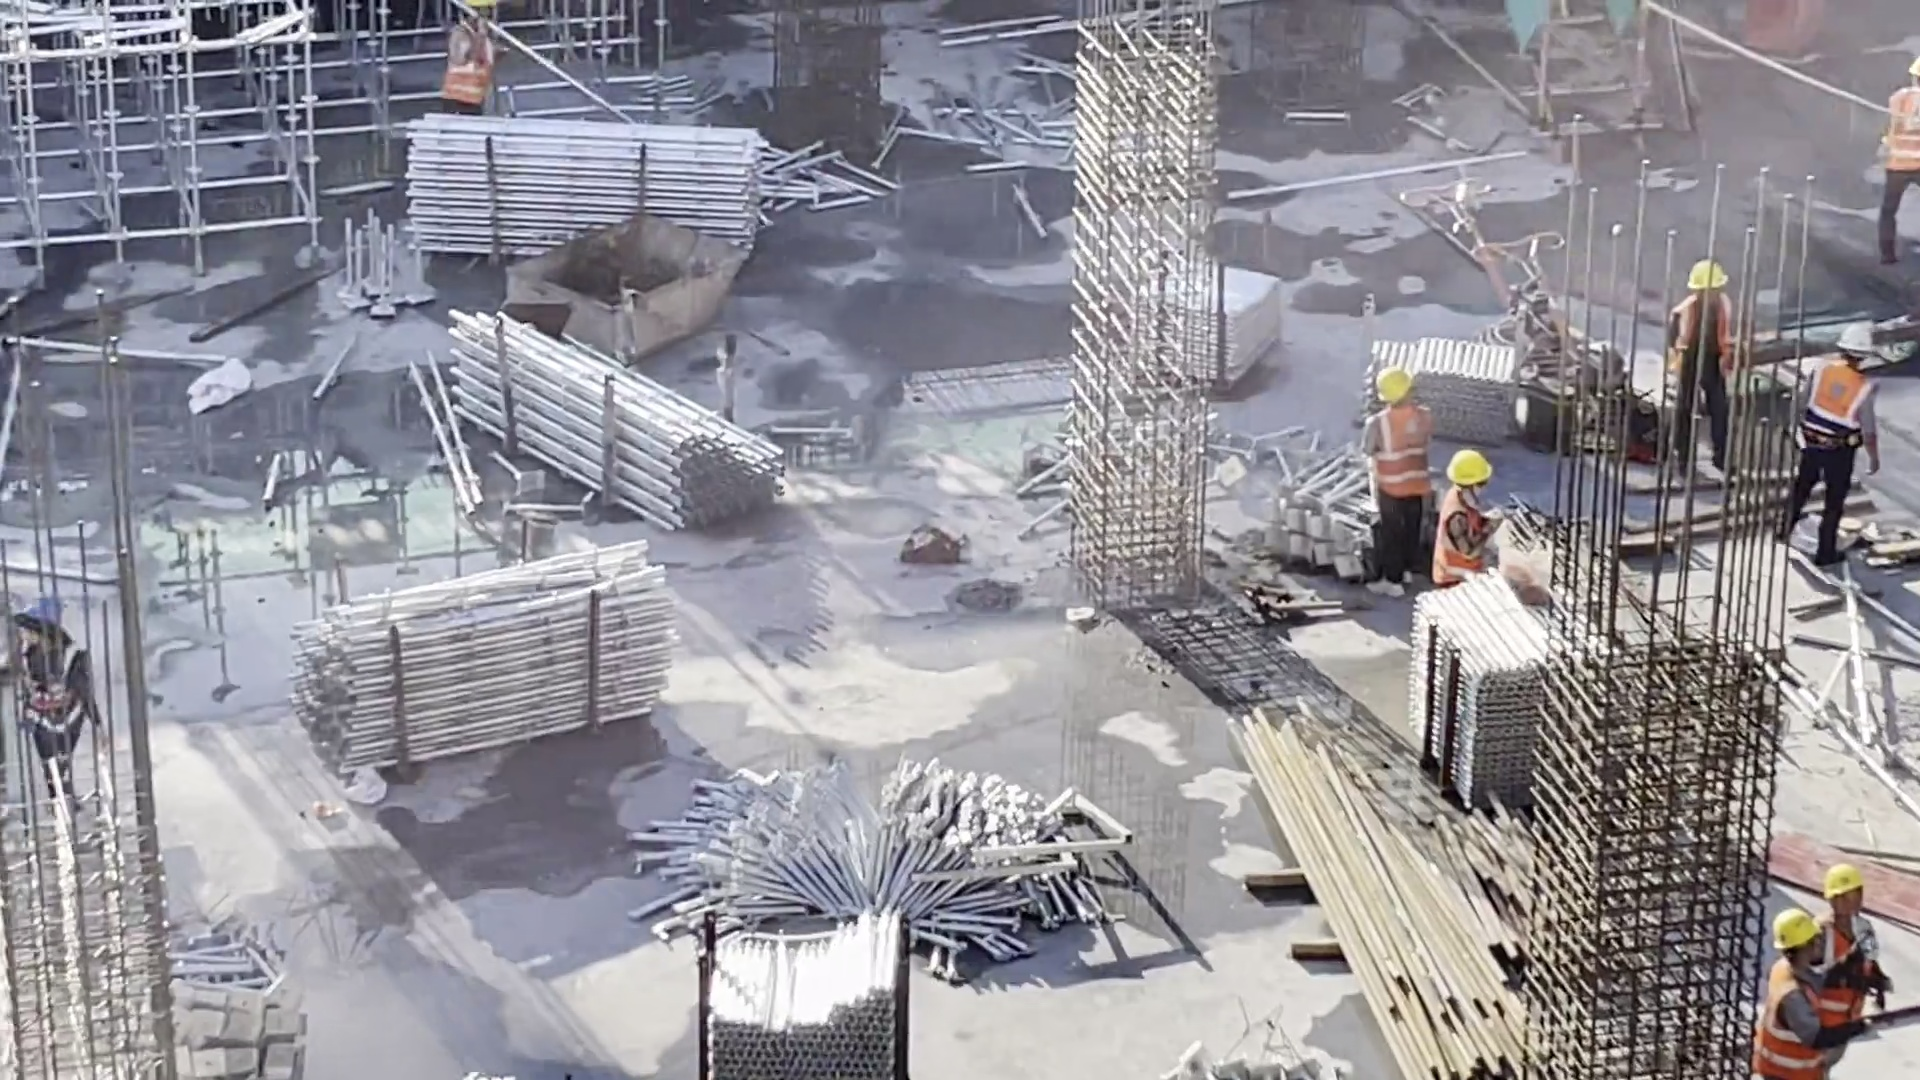helmet: (1449, 441, 1492, 493), (1377, 363, 1422, 406), (1777, 906, 1819, 953), (1692, 261, 1728, 297), (1836, 868, 1869, 902), (1841, 322, 1874, 354)
hopper: (512, 212, 745, 365)
person: (1786, 323, 1893, 561), (1814, 865, 1900, 1056), (1362, 371, 1443, 569), (1670, 252, 1740, 469), (1760, 898, 1826, 1080), (426, 2, 506, 119), (1430, 449, 1495, 587), (1886, 38, 1920, 264)
scaffold: (644, 762, 1115, 950), (438, 305, 773, 537), (315, 550, 683, 759), (409, 108, 782, 280), (681, 895, 954, 1080), (1394, 576, 1547, 813), (116, 895, 302, 1080), (1264, 405, 1390, 587), (1371, 324, 1556, 447), (1139, 250, 1273, 392)
vest: (1801, 361, 1864, 475), (1818, 915, 1867, 1024), (1759, 969, 1815, 1061), (1667, 297, 1728, 379), (1378, 406, 1430, 487), (448, 22, 500, 97), (1436, 494, 1485, 568), (1885, 90, 1920, 176)
